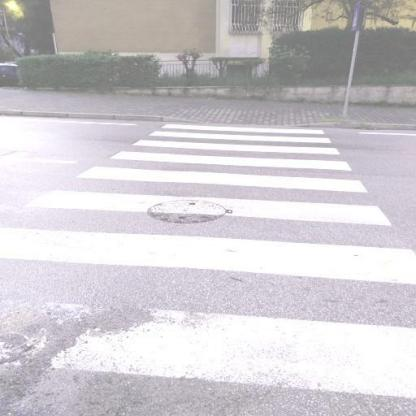crosswalk: (21, 164, 397, 232), (138, 120, 342, 146)
